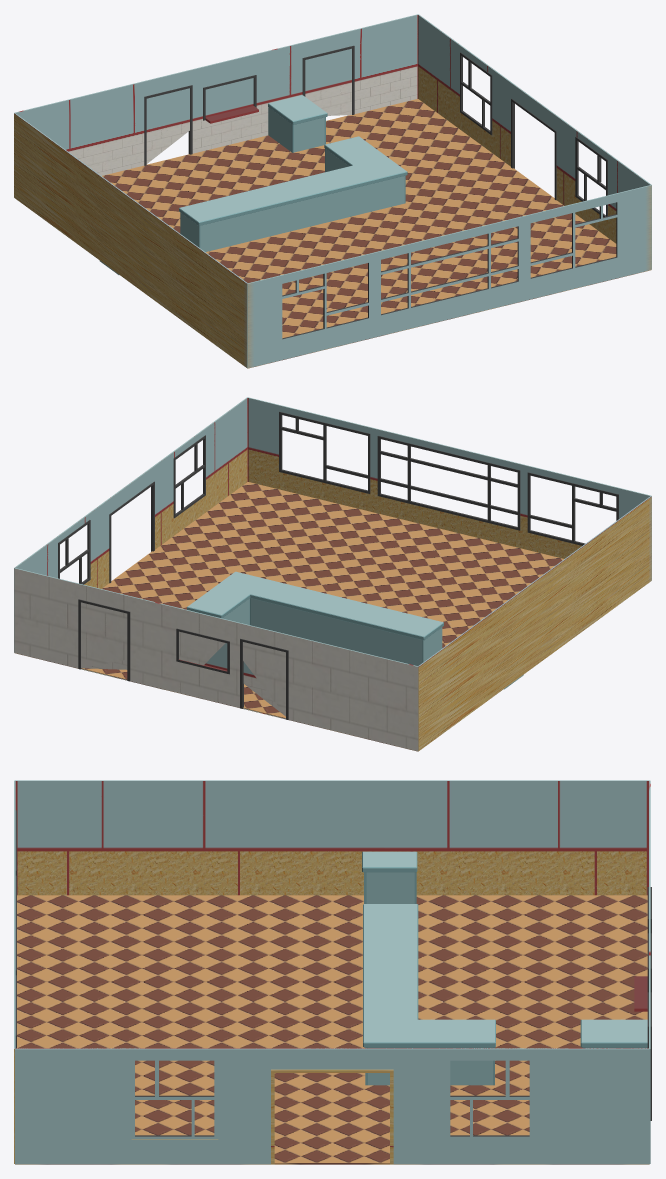
File: CanteenV1.fbx
The picture shows the model from 3 angles, top to bottom: view 1: azimuth 30°, elevation 25°; view 2: azimuth 150°, elevation 25°; view 3: azimuth 270°, elevation 25°; orthographic projection. The views are drawn at different scales.
Parts seen in each view (by area): view 1: floor, wallKitchen, wallWindows, wallBack, wallEnter, Cube.003, Cube, Cube.001, Cube.004, Cube.002, Cube.016, Cube.007 (+4 smaller); view 2: floor, wallKitchen, wallBack, wallWindows, wallEnter, Cube.003, Cube.002, Cube.004, Cube.007, Cube.011, Cube.014, Cube.009 (+1 smaller); view 3: floor, wallBack, wallEnter, Cube.002, Cube.001, Cube.004, wallKitchen, Cube.003, Cube.019, Cube.018, Cube.007, Cube.014 (+5 smaller).
Part boxes in pixels (x1=…): floor: x1=102, y1=99, x2=650, y2=368; wallKitchen: x1=14, y1=14, x2=418, y2=175; wallWindows: x1=247, y1=185, x2=651, y2=368; wallBack: x1=14, y1=113, x2=247, y2=368; wallEnter: x1=418, y1=14, x2=651, y2=269; Cube.003: x1=180, y1=149, x2=405, y2=251; Cube: x1=268, y1=107, x2=325, y2=152; Cube.001: x1=268, y1=95, x2=327, y2=124; Cube.004: x1=347, y1=153, x2=407, y2=183; Cube.002: x1=324, y1=136, x2=383, y2=164; Cube.016: x1=179, y1=199, x2=229, y2=225; Cube.007: x1=319, y1=165, x2=373, y2=191; floor: x1=15, y1=482, x2=563, y2=751; wallKitchen: x1=14, y1=568, x2=418, y2=751; wallBack: x1=418, y1=496, x2=651, y2=751; wallWindows: x1=248, y1=397, x2=651, y2=558; wallEnter: x1=14, y1=397, x2=247, y2=652; Cube.003: x1=222, y1=598, x2=442, y2=665; Cube.002: x1=187, y1=588, x2=245, y2=618; Cube.004: x1=212, y1=571, x2=268, y2=601; Cube.007: x1=250, y1=580, x2=303, y2=602; Cube.011: x1=337, y1=601, x2=389, y2=622; Cube.014: x1=366, y1=609, x2=418, y2=630; Cube.009: x1=308, y1=594, x2=355, y2=615; floor: x1=15, y1=895, x2=649, y2=1164; wallBack: x1=15, y1=780, x2=649, y2=895; wallEnter: x1=15, y1=1048, x2=649, y2=1164; Cube.002: x1=427, y1=1019, x2=495, y2=1047; Cube.001: x1=580, y1=1019, x2=647, y2=1047; Cube.004: x1=363, y1=1019, x2=427, y2=1047; wallKitchen: x1=634, y1=780, x2=651, y2=1163; Cube.003: x1=365, y1=1047, x2=494, y2=1085; Cube.019: x1=364, y1=872, x2=416, y2=903; Cube.018: x1=362, y1=851, x2=417, y2=872; Cube.007: x1=363, y1=997, x2=417, y2=1019; Cube.014: x1=363, y1=920, x2=417, y2=942.
Bounding box in the file's own units: 7033 × 1415 × 7035.
